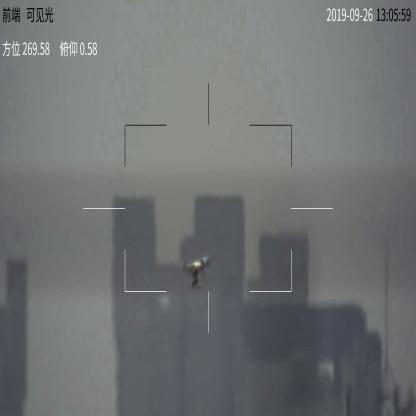uav: (174, 253, 212, 289)
